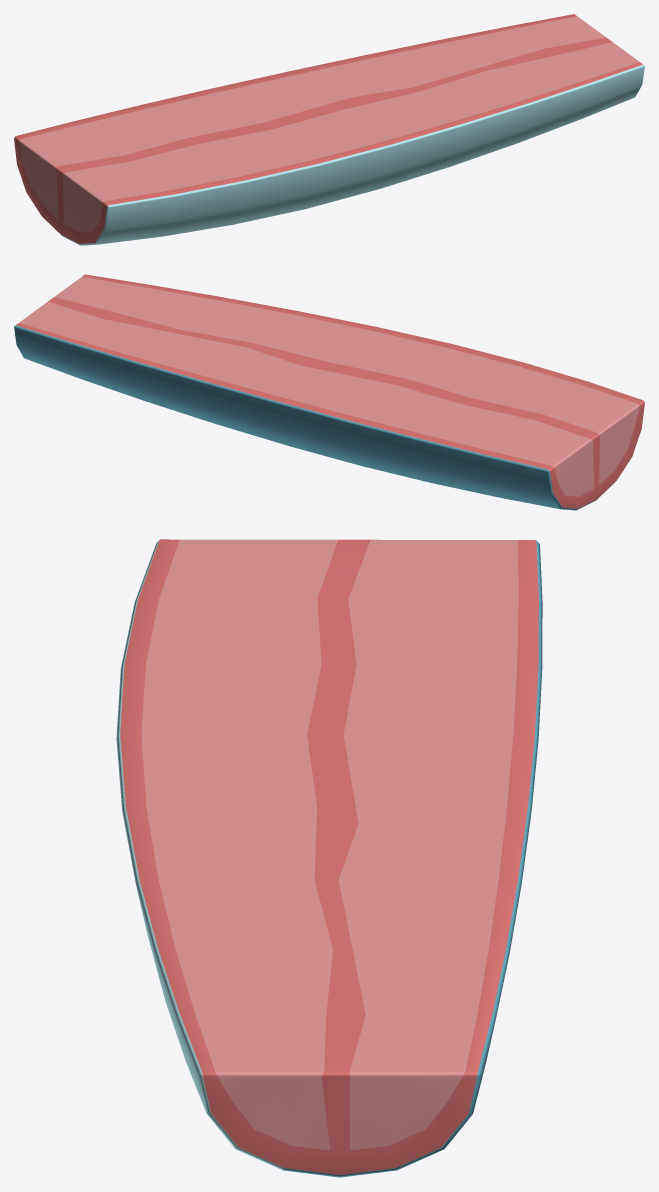
File: Sardine_2_Fillet_1.fbx
3 views of the same model, one above another, from view 1: azimuth 30°, elevation 25°; view 2: azimuth 150°, elevation 25°; view 3: azimuth 270°, elevation 25° (orthographic). The views are drawn at different scales.
Visible parts, largest first — view 1: Sardine_2_Fillet_1; view 2: Sardine_2_Fillet_1; view 3: Sardine_2_Fillet_1.
Part boxes in pixels (x1=…): Sardine_2_Fillet_1: x1=14, y1=14, x2=644, y2=245; Sardine_2_Fillet_1: x1=14, y1=274, x2=644, y2=510; Sardine_2_Fillet_1: x1=116, y1=539, x2=542, y2=1177.
Size of the model in its own units: 15.07 by 1.96 by 5.07.
